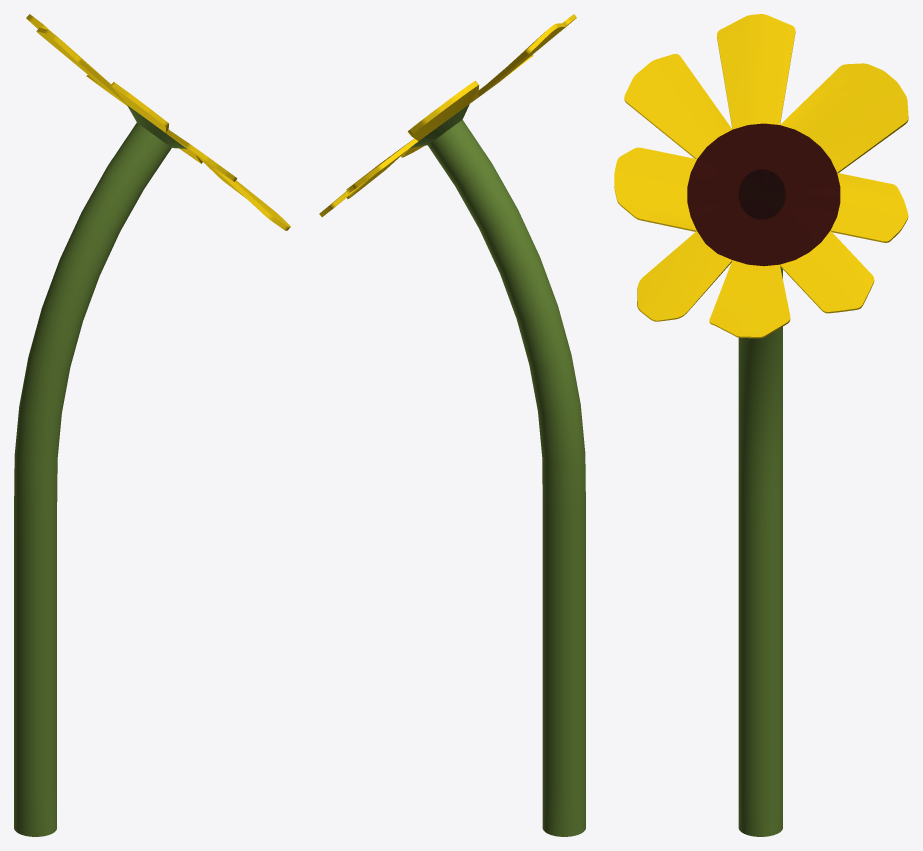
File: Flower Model.fbx
The picture shows the model from 3 angles, left to right: view 1: azimuth 30°, elevation 25°; view 2: azimuth 150°, elevation 25°; view 3: azimuth 270°, elevation 25°; orthographic projection. The views are drawn at different scales.
Visible parts, largest first — view 1: Flower; view 2: Flower; view 3: Flower.
Part boxes in pixels (bbox=[...]): Flower: bbox=[14, 14, 290, 836]; Flower: bbox=[319, 14, 585, 836]; Flower: bbox=[614, 14, 908, 836].
Bounding box in the file's own units: 1.39 × 4.51 × 1.47.
1 material, 1 textured.
